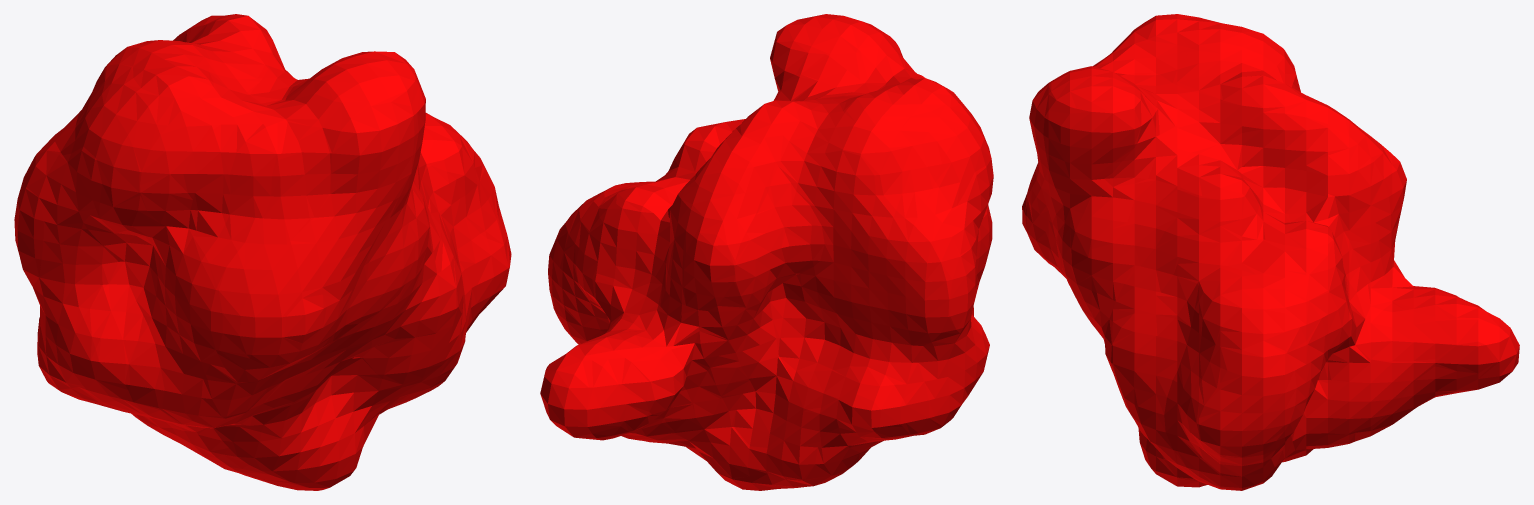
The model's file is tsaC_coarse.dae.
3 views of the same model, side by side, from view 1: azimuth 30°, elevation 25°; view 2: azimuth 150°, elevation 25°; view 3: azimuth 270°, elevation 25° (orthographic). The views are drawn at different scales.
Parts seen in each view (by area): view 1: tsaC; view 2: tsaC; view 3: tsaC.
Boxes of the visible parts, left/top/right/bottom form: tsaC: left=14, top=14, right=511, bottom=490; tsaC: left=540, top=14, right=993, bottom=490; tsaC: left=1022, top=14, right=1519, bottom=490.
Size of the model in its own units: 51.35 by 48.36 by 53.55.
